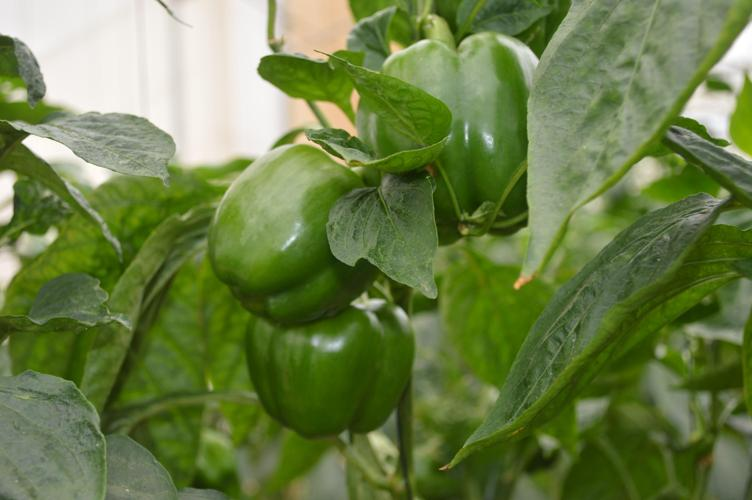BellPepper: (384, 29, 535, 216), (207, 144, 370, 310), (232, 297, 407, 434)
